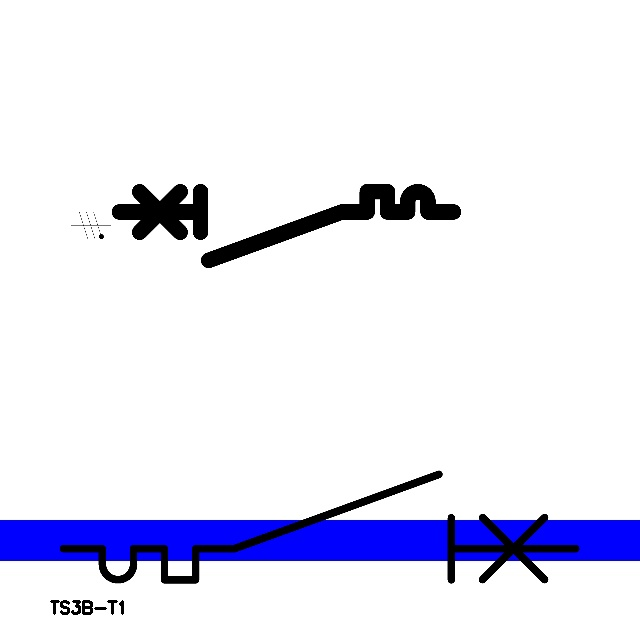interruptor_termomagnetico: (50, 461, 589, 593), (110, 183, 461, 269)
